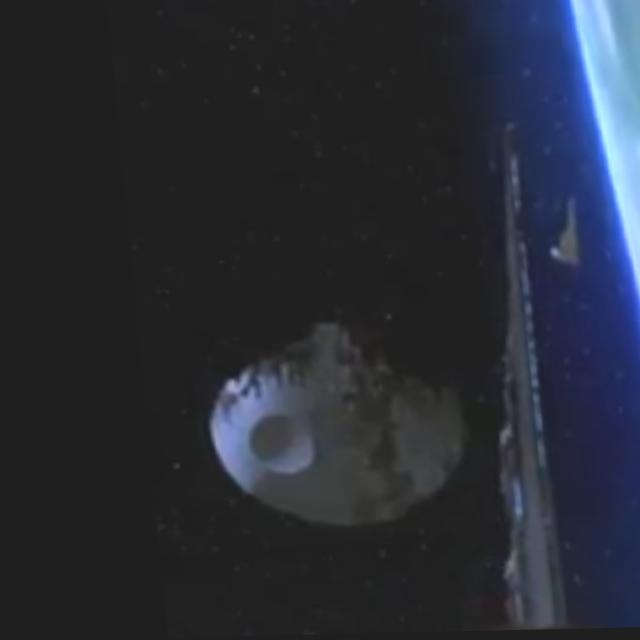deathStar: (195, 321, 462, 531)
